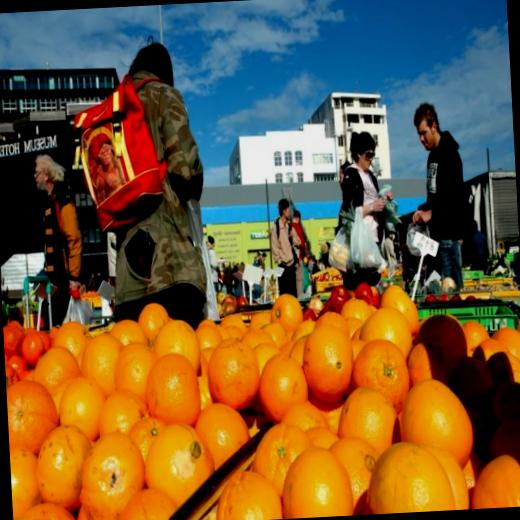Grape: (366, 444, 457, 514), (78, 432, 148, 520), (400, 374, 472, 458), (281, 449, 356, 519), (34, 423, 92, 513), (142, 349, 204, 433), (302, 316, 359, 404), (201, 334, 260, 416), (338, 387, 402, 458), (6, 377, 60, 460), (350, 338, 412, 404), (190, 400, 248, 468), (250, 421, 316, 479), (256, 352, 308, 423), (327, 432, 381, 499), (214, 468, 282, 520), (56, 378, 107, 446), (426, 443, 471, 511), (108, 342, 159, 402), (468, 451, 520, 509), (160, 316, 208, 374), (362, 305, 414, 358), (79, 326, 123, 388), (32, 341, 76, 403), (100, 388, 150, 437), (128, 417, 166, 467), (113, 490, 176, 520), (10, 448, 37, 514), (284, 400, 330, 432), (58, 320, 90, 366), (144, 300, 172, 345), (23, 499, 79, 520), (389, 286, 415, 330), (344, 294, 374, 332), (193, 315, 223, 353), (475, 338, 508, 370), (496, 328, 520, 368), (460, 316, 486, 350), (505, 349, 520, 392)
